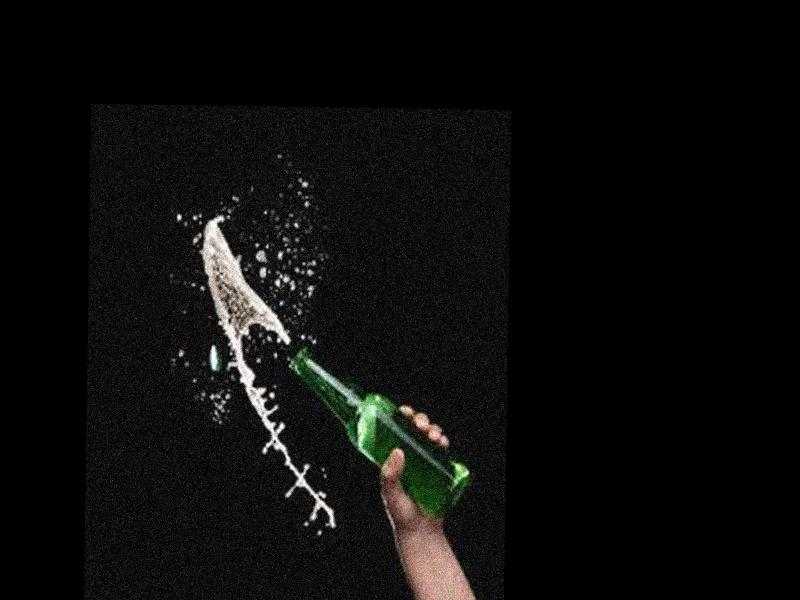Beer: (289, 348, 475, 518)
